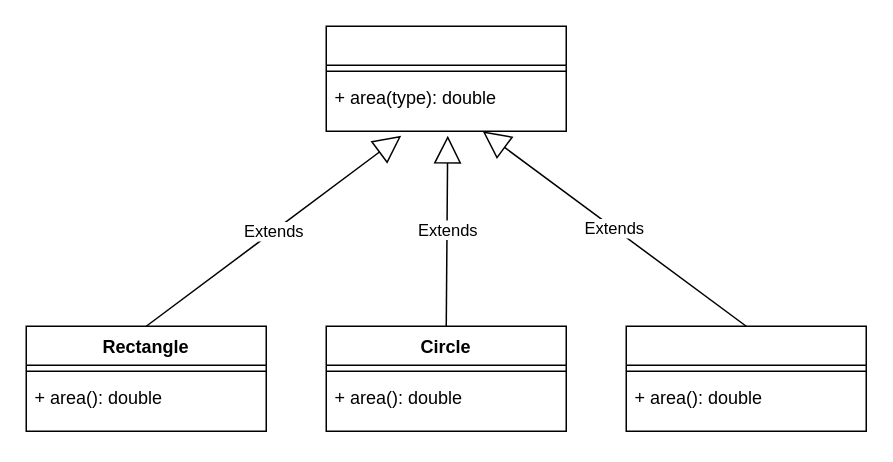
Some shapes in this 893 by 462 pixel diagram are drawn without their labels. The shapes that lost their labels are listed below. From the top down, each one's box as (x1, y1, x2, y2) in pixels, then its label:
(325, 25, 566, 131): Shape
(625, 325, 866, 431): Triangle
